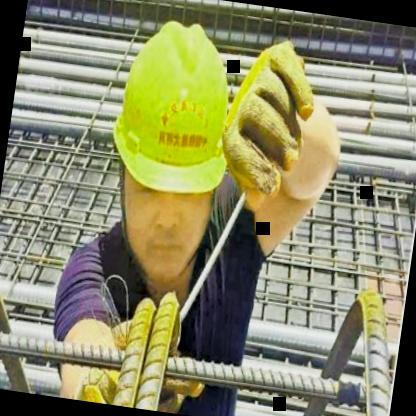helmet: (83, 0, 249, 284)
